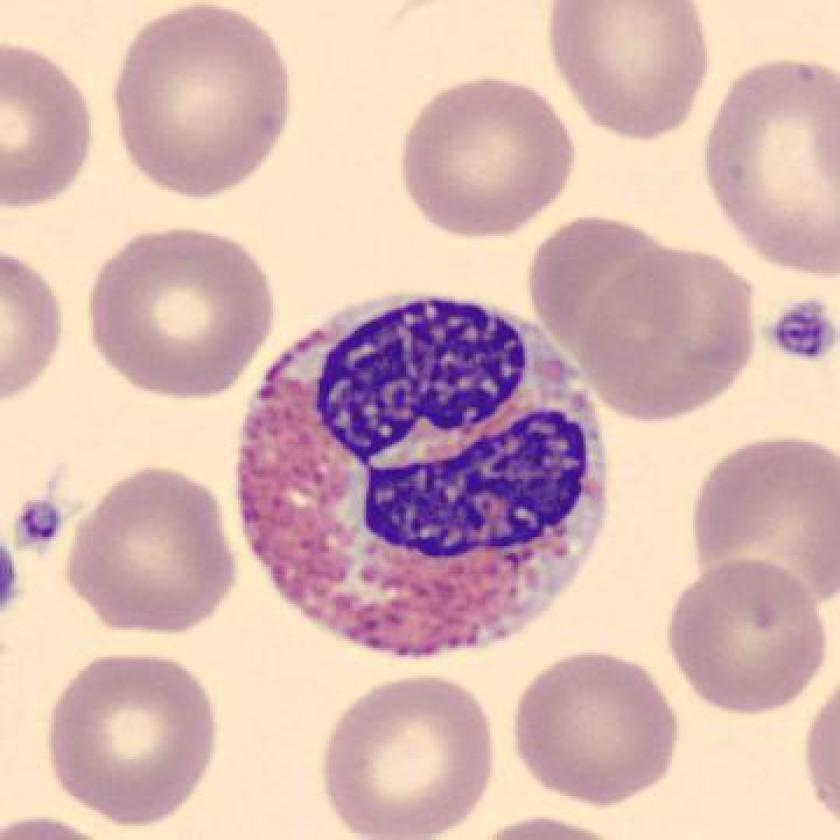eosinophil: (228, 284, 613, 668)
